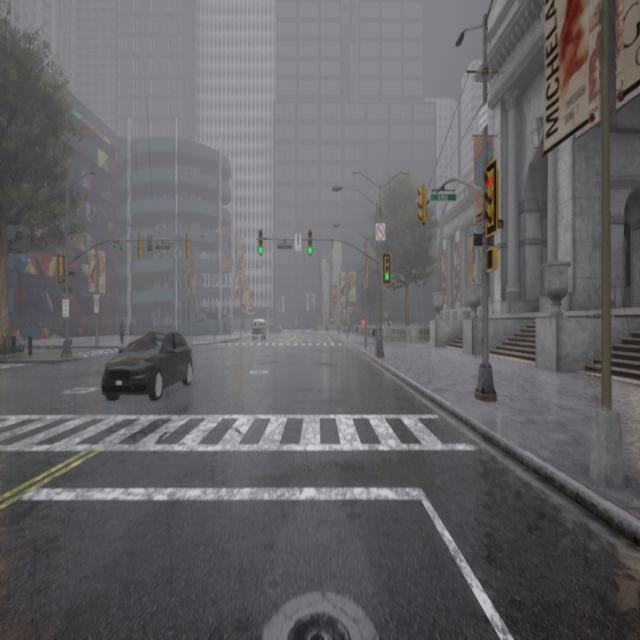bien_chi_dan: (471, 170, 496, 272), (414, 184, 429, 235), (254, 226, 271, 261), (304, 226, 318, 262), (380, 252, 393, 288), (480, 170, 496, 192), (374, 222, 386, 245), (417, 186, 427, 201), (306, 246, 316, 259), (384, 271, 390, 282), (258, 246, 264, 256)
